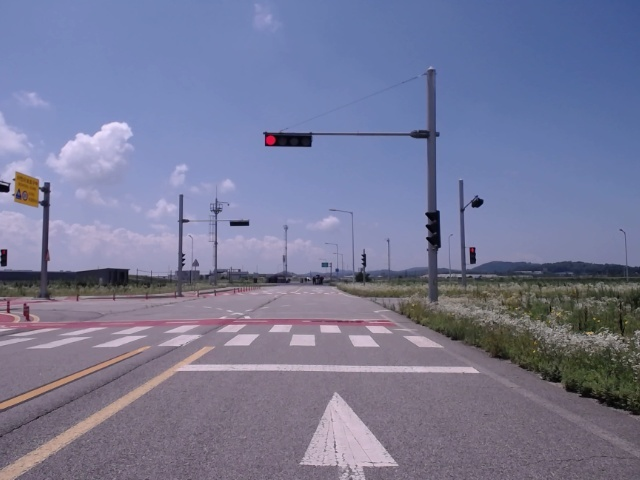red_4: (265, 134, 312, 146)
